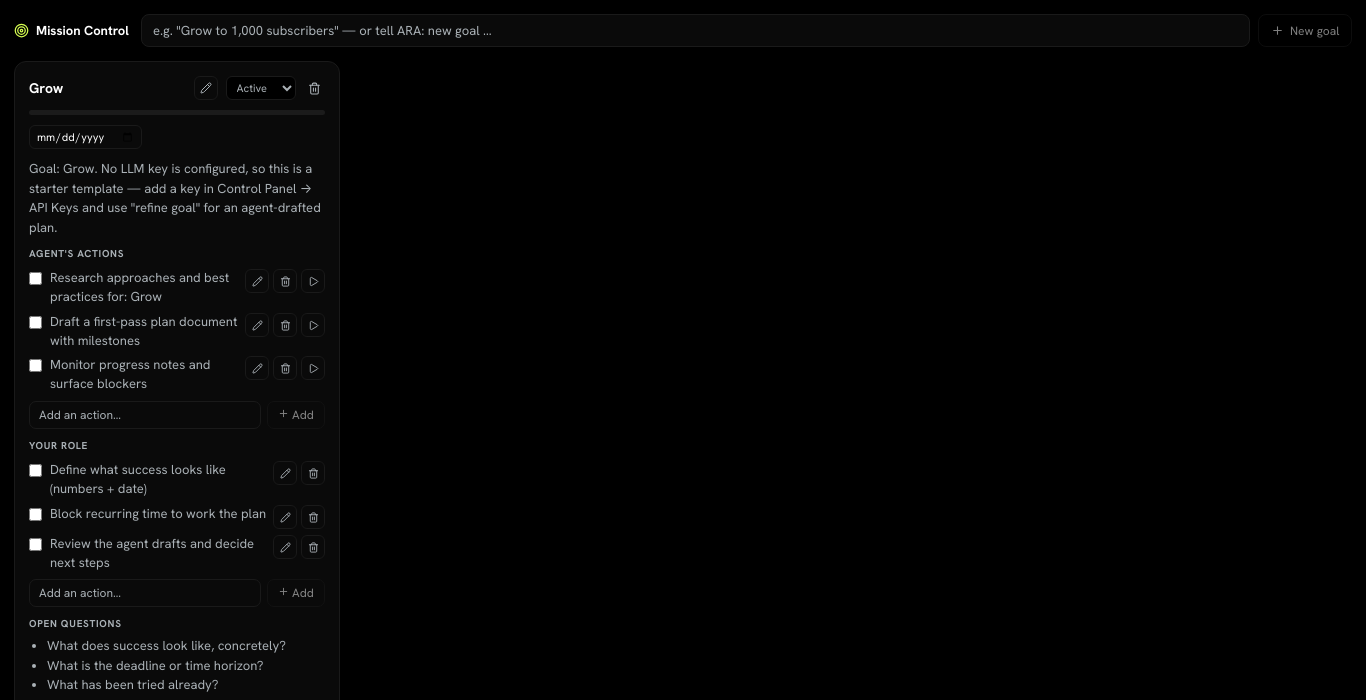
Test: run with agent › ok -> result region + note + artifact recorded
What coordinates should you click on to do the following:
click the button named "Run with agent: Research approaches and best practices for:"
I would click on:
 (312, 281)
Its box is [300,269,324,293].
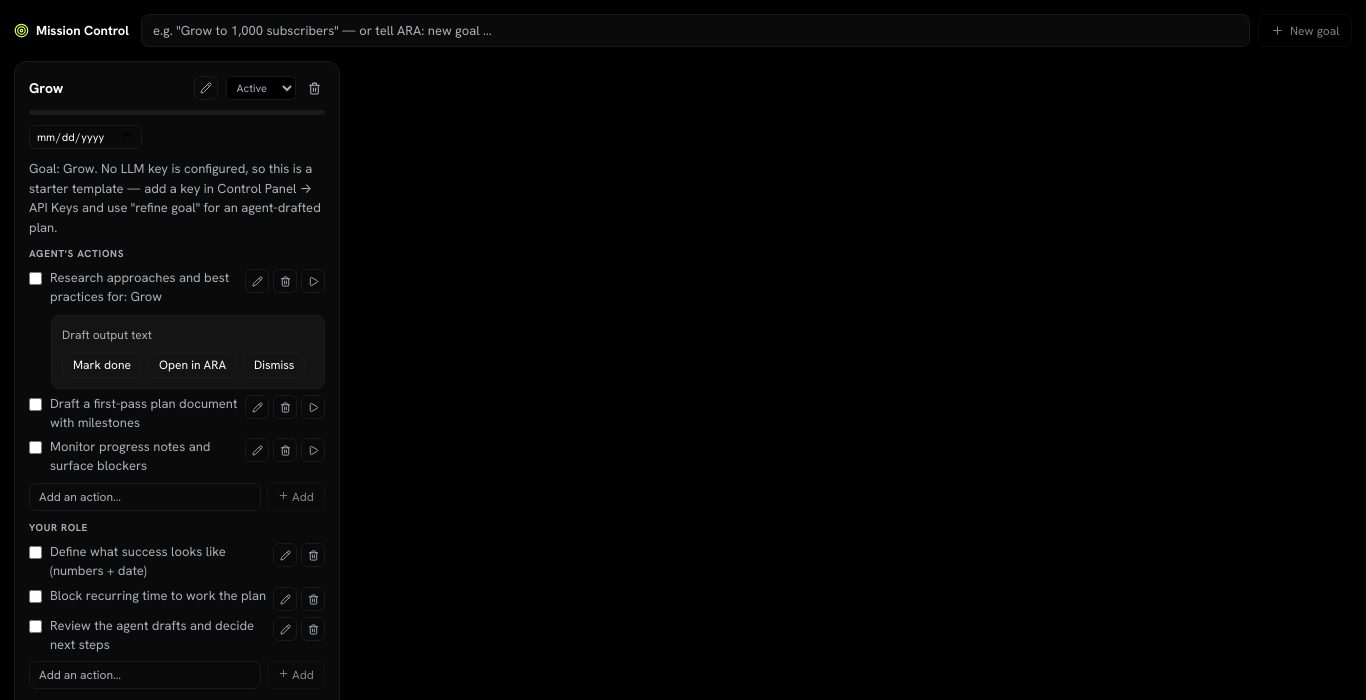
Expected: the text "Draft output text" is shown, [62,327,152,343]
